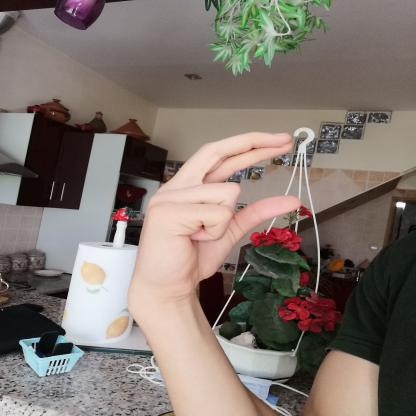DHELL: (122, 122, 310, 306)
